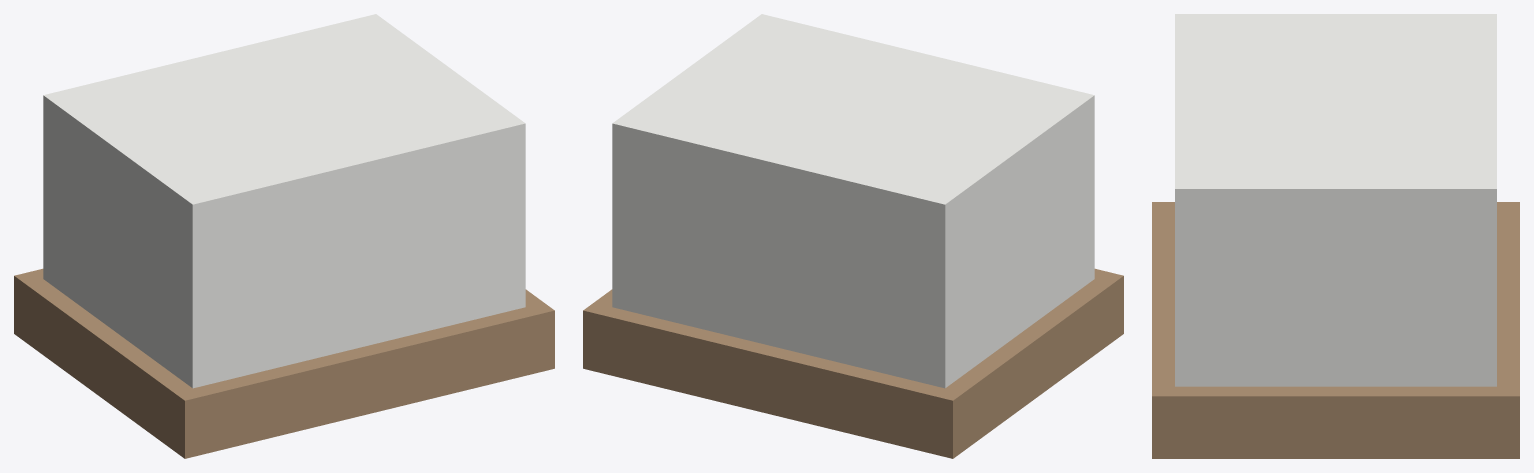
File: refrigerated_pallet_stack.glb
3 renders of one model, left to right at view 1: azimuth 30°, elevation 25°; view 2: azimuth 150°, elevation 25°; view 3: azimuth 270°, elevation 25°, orthographic. The views are drawn at different scales.
Visible parts, largest first — view 1: coldbox, pallet; view 2: coldbox, pallet; view 3: coldbox, pallet.
Boxes of the visible parts, bbox=[...] form: coldbox: bbox=[43, 14, 525, 388]; pallet: bbox=[14, 268, 554, 458]; coldbox: bbox=[612, 14, 1094, 388]; pallet: bbox=[583, 268, 1123, 458]; coldbox: bbox=[1175, 14, 1496, 386]; pallet: bbox=[1152, 202, 1519, 458].
Size of the model in its own units: 2 by 1.25 by 1.6.
